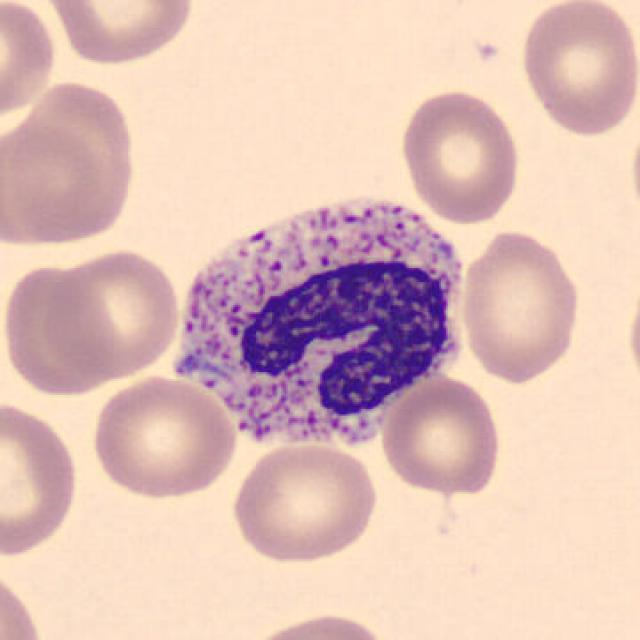Neutrophil: (160, 180, 482, 467)
RBC: (2, 80, 140, 250), (457, 226, 585, 386), (39, 245, 185, 384), (226, 439, 382, 566), (87, 374, 240, 501), (394, 84, 524, 226), (515, 0, 638, 139), (0, 259, 114, 400), (379, 370, 505, 497), (0, 393, 82, 561), (39, 0, 197, 67), (0, 0, 60, 125), (240, 608, 395, 640), (0, 564, 48, 640), (624, 272, 640, 406), (627, 104, 640, 236)
